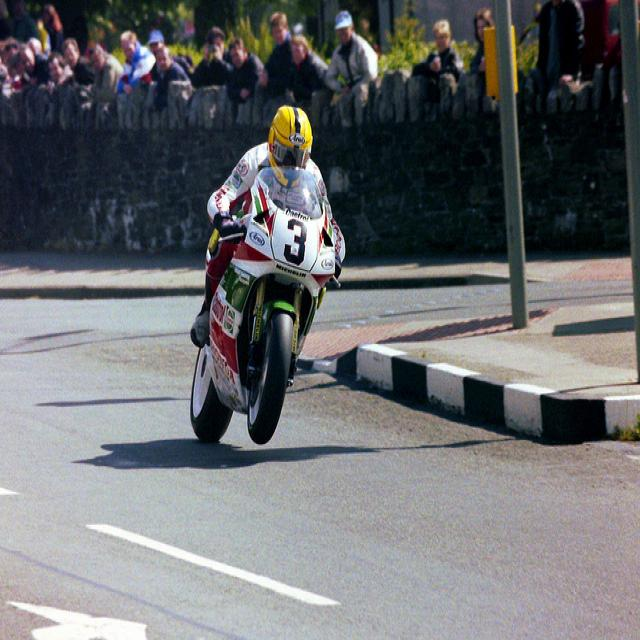motor: (181, 177, 334, 452)
